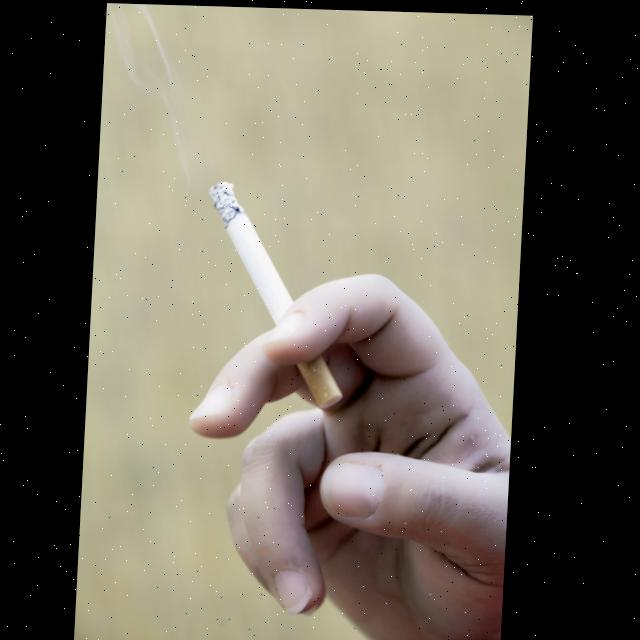cigarette: (201, 179, 357, 408)
